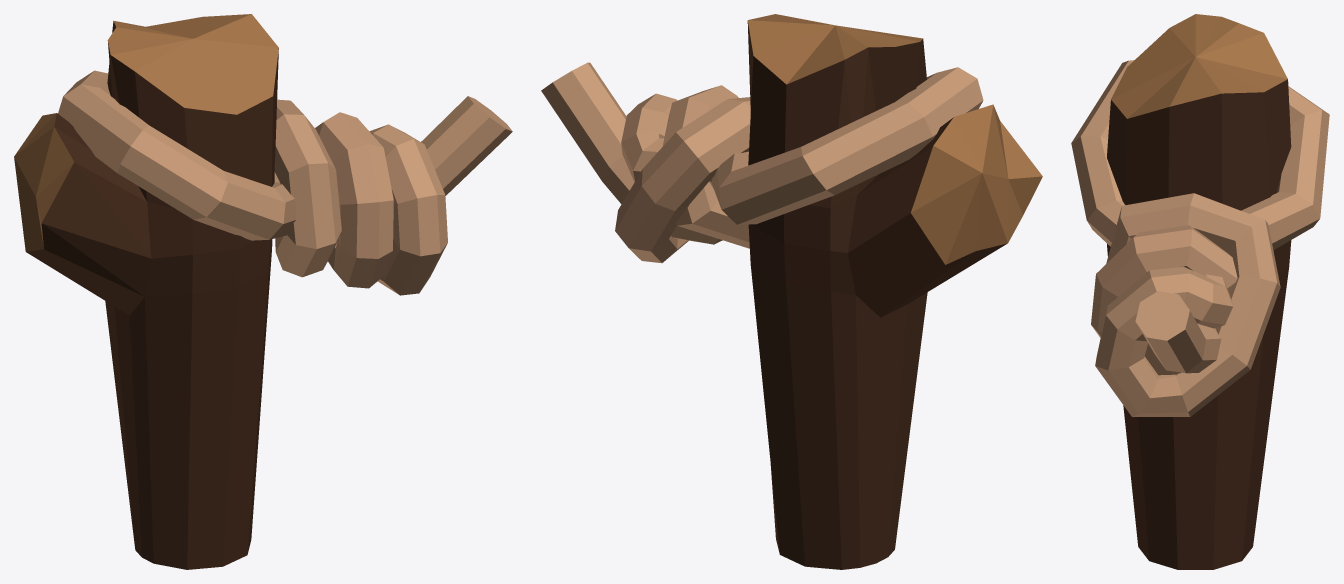
File: TripeWireRopeStake.fbx
3 views of the same model, side by side, from view 1: azimuth 30°, elevation 25°; view 2: azimuth 150°, elevation 25°; view 3: azimuth 270°, elevation 25° (orthographic). The views are drawn at different scales.
Visible parts, largest first — view 1: TripeWireRopeStake; view 2: TripeWireRopeStake; view 3: TripeWireRopeStake.
Boxes of the visible parts, <box> form: TripeWireRopeStake: <box>14,14,512,569</box>; TripeWireRopeStake: <box>541,14,1042,569</box>; TripeWireRopeStake: <box>1071,14,1329,569</box>.
Bounding box in the file's own units: 28.58 × 29.52 × 13.89.
